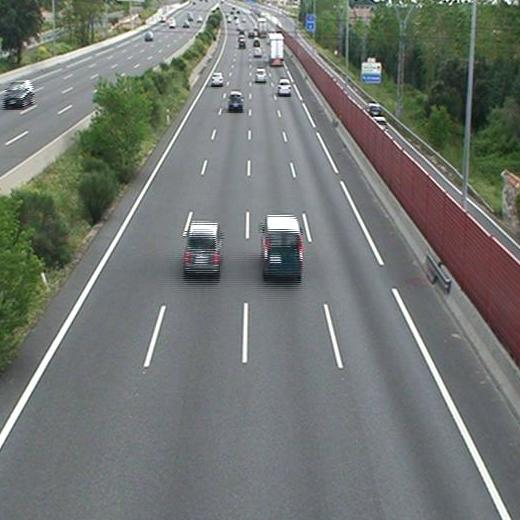car: (185, 222, 221, 272), (228, 92, 243, 108), (277, 79, 292, 94), (254, 69, 266, 82), (211, 72, 222, 85)
truck: (268, 34, 283, 65)
van: (262, 216, 303, 276)
